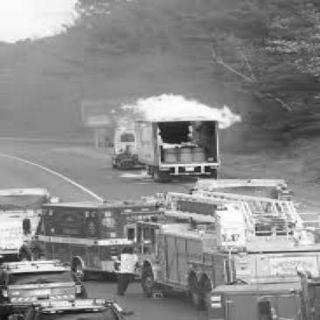Fire: (108, 86, 240, 148)
other: (3, 184, 163, 270)
